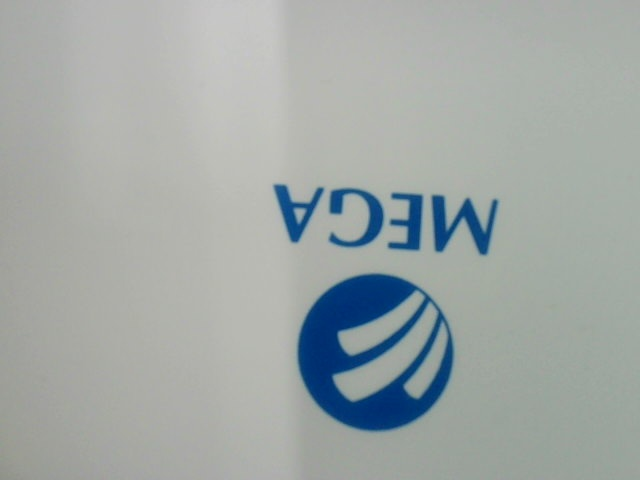AM_ZTEMEGA: (254, 166, 508, 445)
